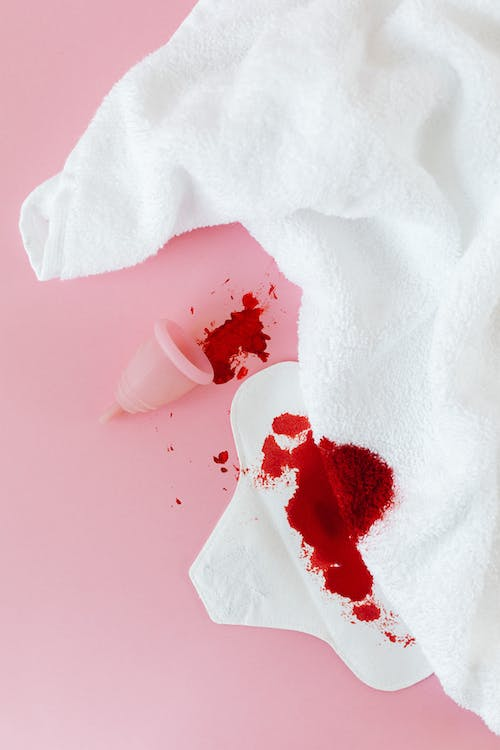blood: (240, 409, 417, 650), (188, 256, 279, 385), (165, 410, 239, 508)
